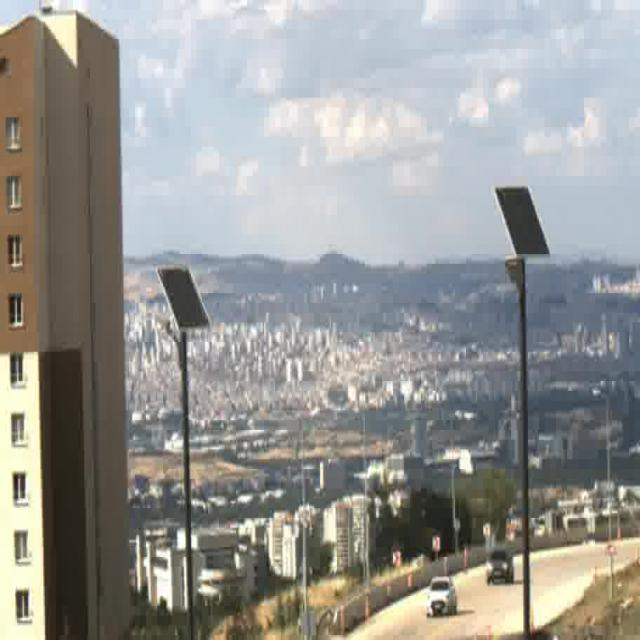Car: (426, 577, 457, 618), (486, 552, 515, 584)
